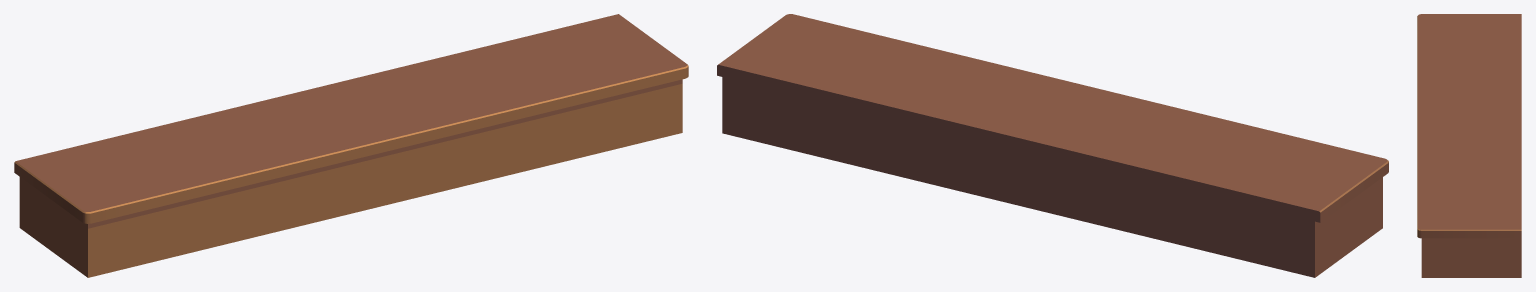
File: BackCounter_01.FBX
3 renders of one model, left to right at view 1: azimuth 30°, elevation 25°; view 2: azimuth 150°, elevation 25°; view 3: azimuth 270°, elevation 25°, orthographic. The views are drawn at different scales.
Parts seen in each view (by area): view 1: Counter_Fondo; view 2: Counter_Fondo; view 3: Counter_Fondo.
Boxes of the visible parts, box(x1,y1,x2,y2) form: Counter_Fondo: box(14, 14, 688, 277); Counter_Fondo: box(717, 14, 1388, 277); Counter_Fondo: box(1417, 14, 1521, 277).
Bounding box in the file's own units: 560 × 60 × 114.
